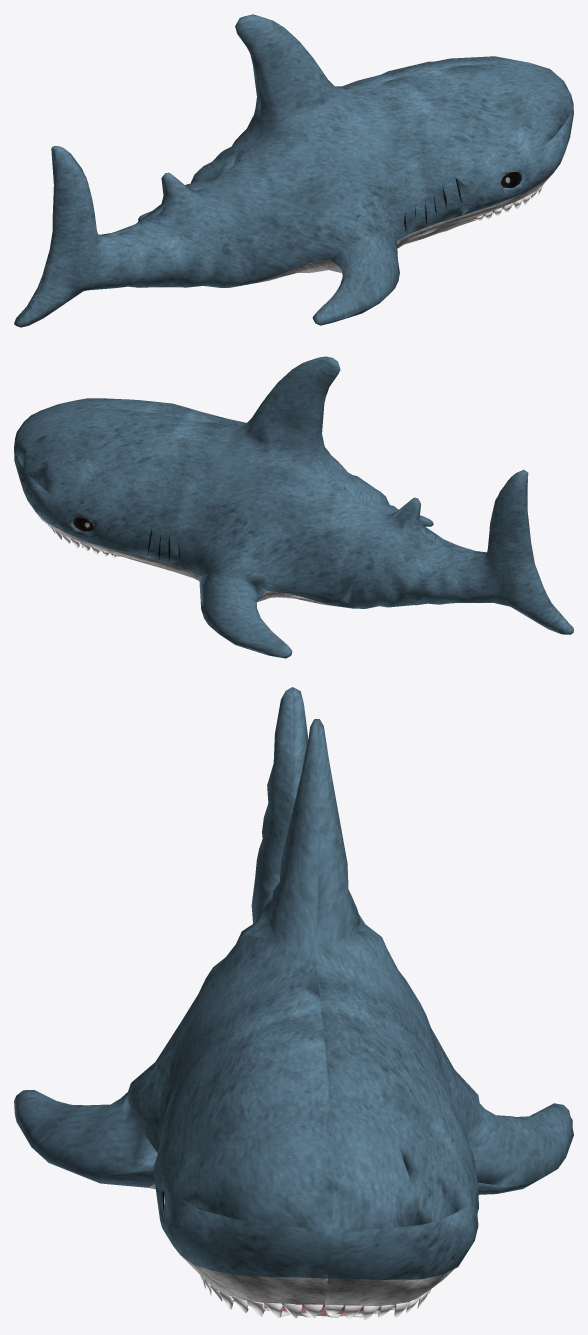
Rendered from plushblahaj_static.fbx.
3 views of the same model, one above another, from view 1: azimuth 30°, elevation 25°; view 2: azimuth 150°, elevation 25°; view 3: azimuth 270°, elevation 25° (orthographic). The views are drawn at different scales.
Visible parts, largest first — view 1: ikea_Blahaj.001; view 2: ikea_Blahaj.001; view 3: ikea_Blahaj.001.
Part boxes in pixels (x1,y1,x2,y2): ikea_Blahaj.001: (14,14,573,327); ikea_Blahaj.001: (14,356,573,658); ikea_Blahaj.001: (14,687,573,1320).
Bounding box in the file's own units: 0.789 × 0.3444 × 0.4083.
